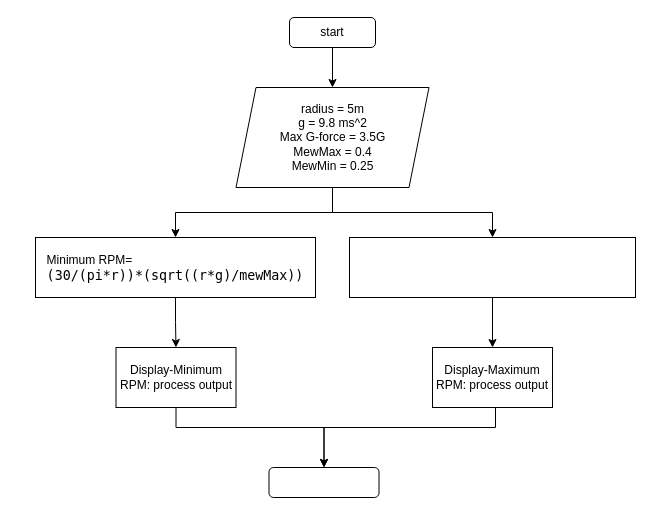
The diagram is 653 pixels wide and 515 high, and some of its shapes have lost their labels. The box of each missing label's shape, as (x1, y1, x2, y2) in pixels:
End: (268, 466, 379, 498)
Maximum RPM= (30/(pi*r))*sqrt(MaxG*r*g): (348, 236, 636, 298)
